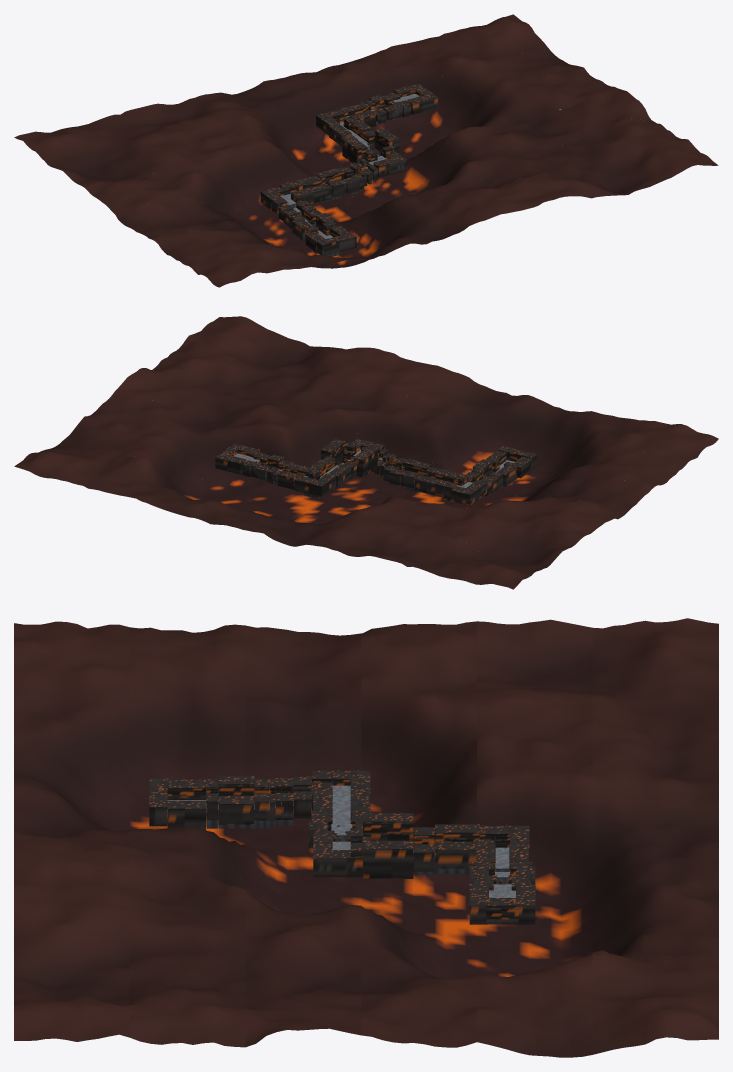
The model's file is molten_foundry_terrain.glb.
The picture shows the model from 3 angles, top to bottom: view 1: azimuth 30°, elevation 25°; view 2: azimuth 150°, elevation 25°; view 3: azimuth 270°, elevation 25°; orthographic projection. The views are drawn at different scales.
Parts seen in each view (by area): view 1: backdrop_5, backdrop_4, backdrop_3, backdrop_2, backdrop_0, backdrop_1, terrain_I, terrain_G, terrain_D, terrain_A, terrain_E, terrain_B (+4 smaller); view 2: backdrop_0, backdrop_1, backdrop_5, backdrop_3, backdrop_4, backdrop_2, terrain_I, terrain_D, terrain_G, terrain_E, terrain_J, terrain_A (+4 smaller); view 3: backdrop_5, backdrop_0, backdrop_4, backdrop_1, backdrop_3, backdrop_2, terrain_G, terrain_B, terrain_I, terrain_A, terrain_J, terrain_D (+3 smaller).
Boxes of the visible parts, x1,y1,x2,y2 form: backdrop_5: (14,14,549,167); backdrop_4: (52,50,583,187); backdrop_3: (85,67,617,221); backdrop_2: (118,88,650,246); backdrop_0: (186,139,718,287); backdrop_1: (152,118,684,268); terrain_I: (316,92,411,133); terrain_G: (342,128,406,175); terrain_D: (260,175,332,210); terrain_A: (305,225,356,256); terrain_E: (315,166,363,201); terrain_B: (291,210,336,240); backdrop_0: (186,316,718,468); backdrop_1: (152,340,684,496); backdrop_5: (14,448,549,589); backdrop_3: (85,388,616,536); backdrop_4: (51,416,583,565); backdrop_2: (118,368,651,519); terrain_I: (242,452,331,498); terrain_D: (415,467,480,505); terrain_G: (321,438,377,478); terrain_E: (383,457,431,492); terrain_J: (215,443,259,474); terrain_A: (486,446,537,478); backdrop_5: (592,618,718,1054); backdrop_0: (14,621,129,1041); backdrop_4: (477,619,592,1057); backdrop_1: (129,624,245,1047); backdrop_3: (361,621,476,1047); backdrop_2: (245,625,361,1047); terrain_G: (313,813,434,878); terrain_B: (206,776,269,828); terrain_I: (469,825,535,890); terrain_A: (149,778,206,829); terrain_J: (469,884,535,924); terrain_D: (313,770,370,830).
Size of the model in its own units: 658 by 61.18 by 469.
